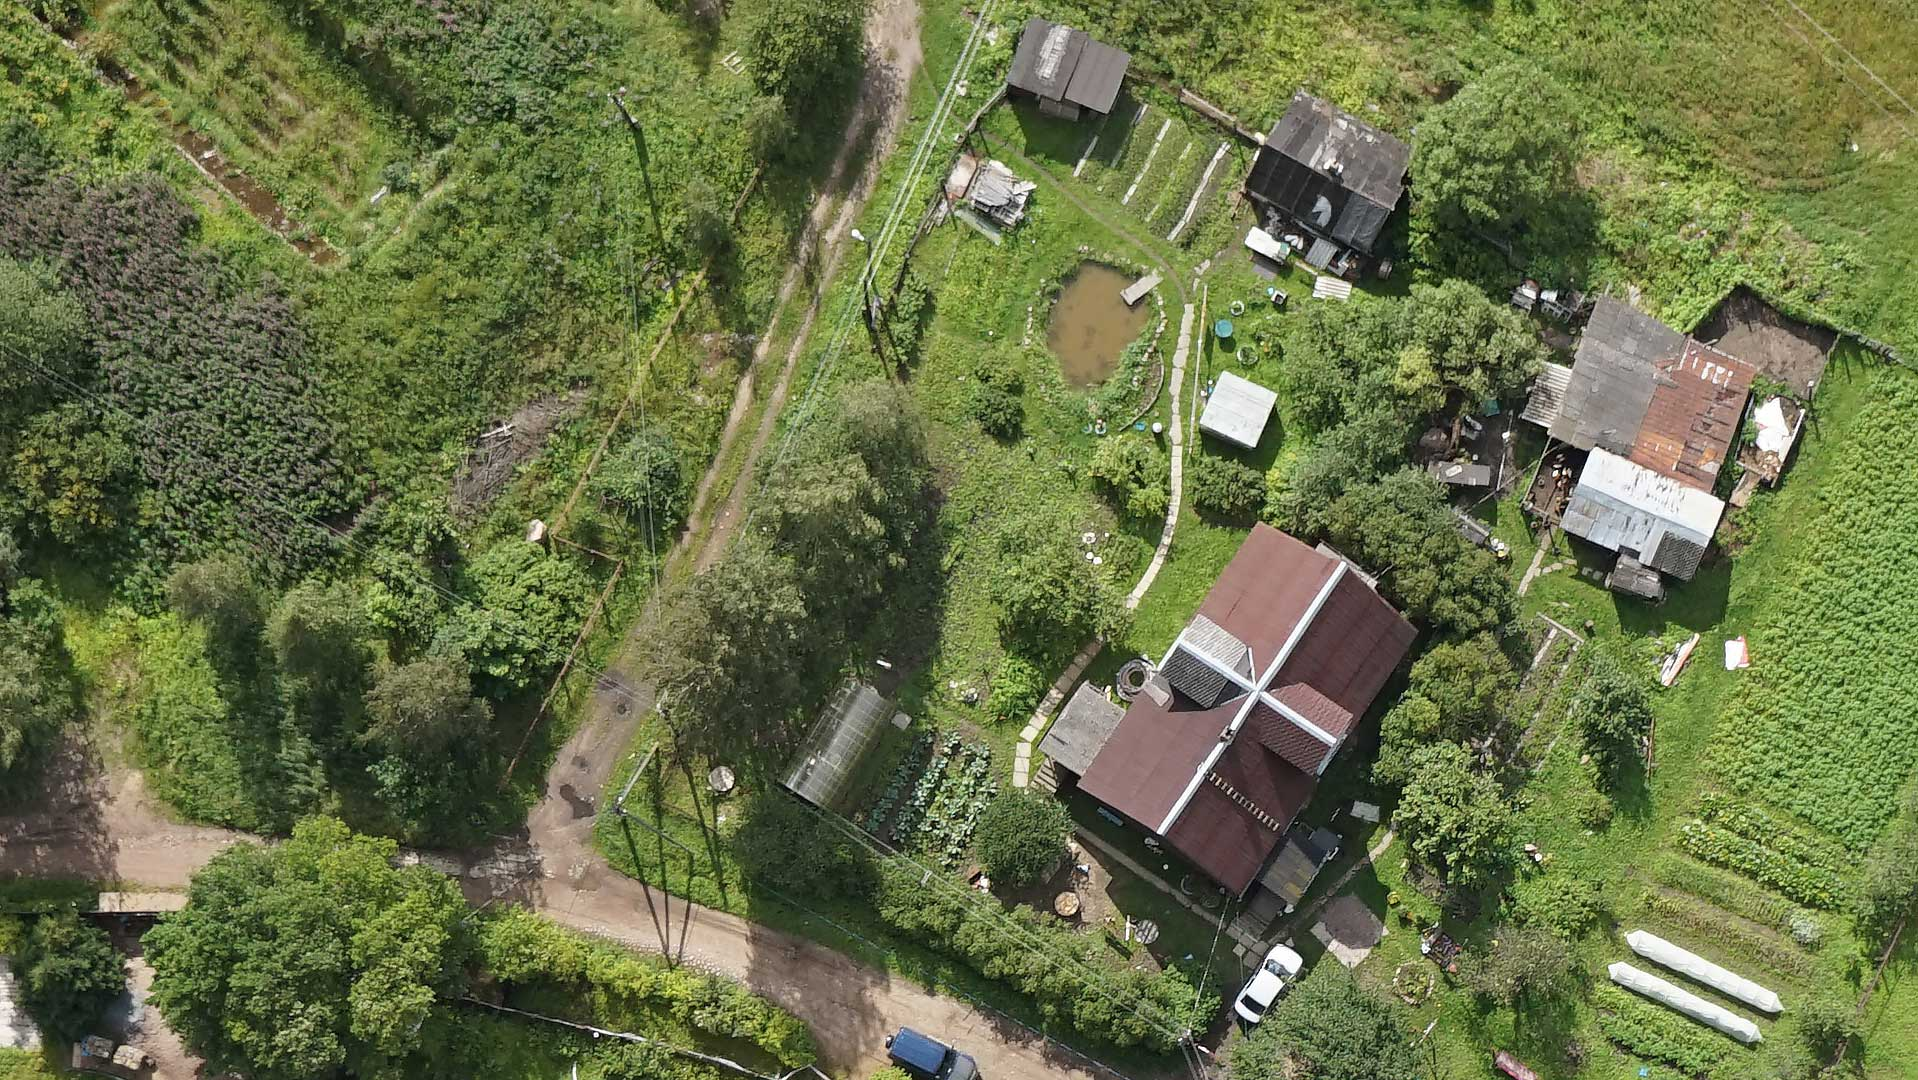build: (1042, 506, 1421, 911), (1503, 288, 1764, 605), (1238, 95, 1415, 248), (771, 688, 905, 810), (1009, 18, 1136, 126), (1199, 369, 1283, 457)
